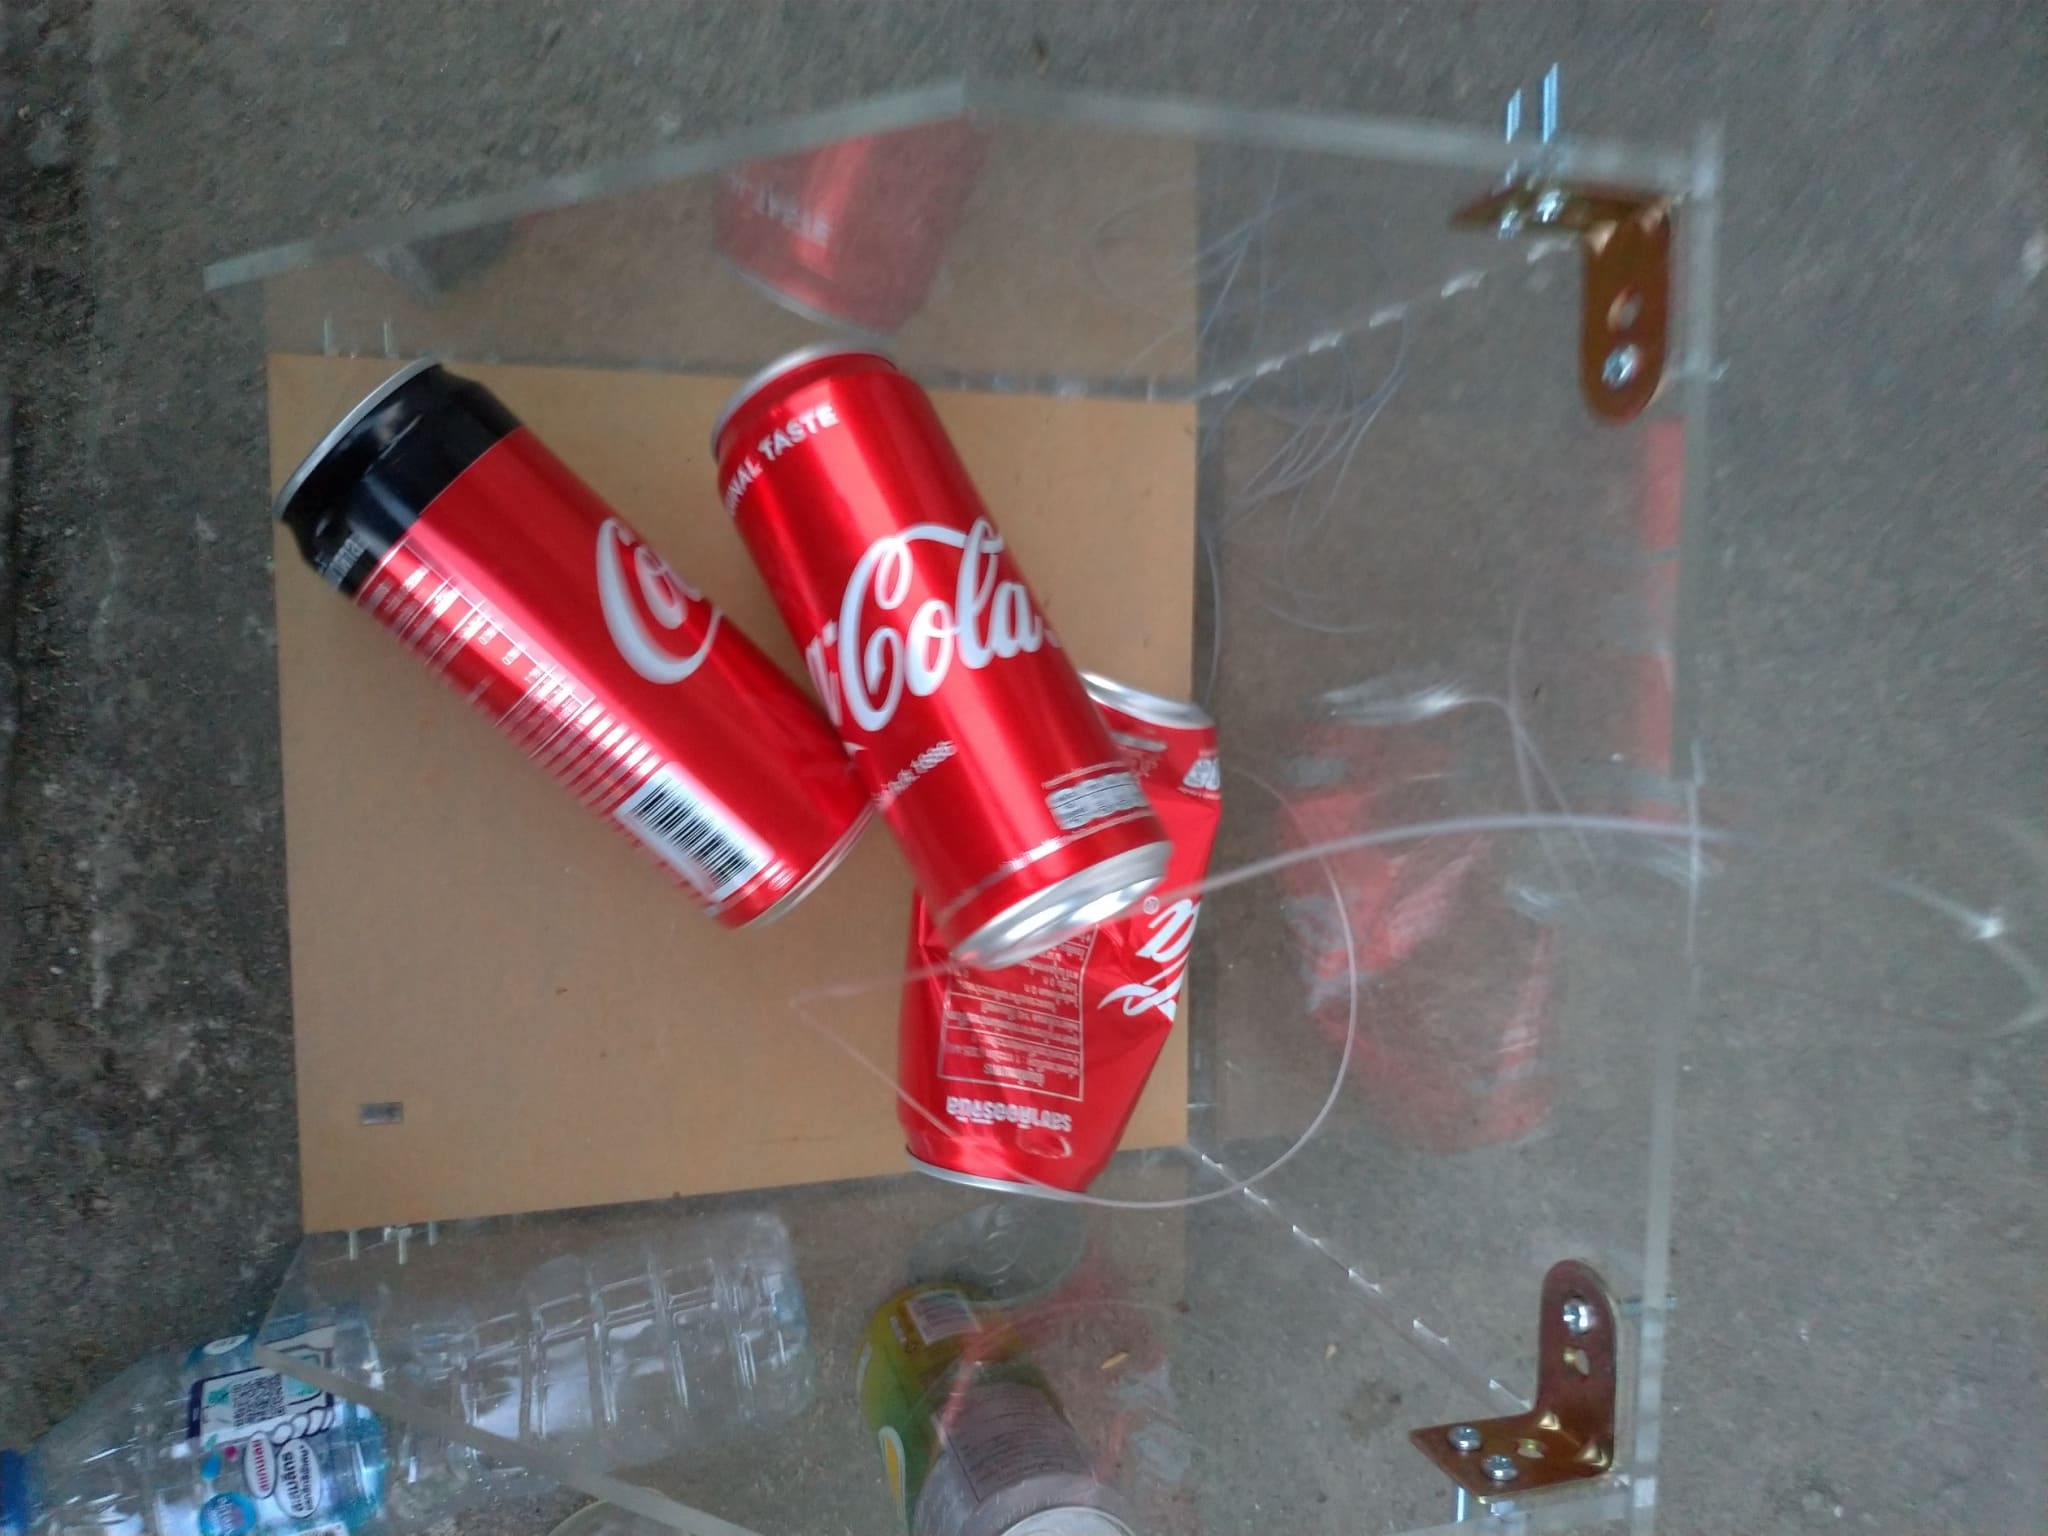AlCan: (276, 357, 884, 929), (710, 337, 1171, 966), (897, 657, 1222, 1199)
